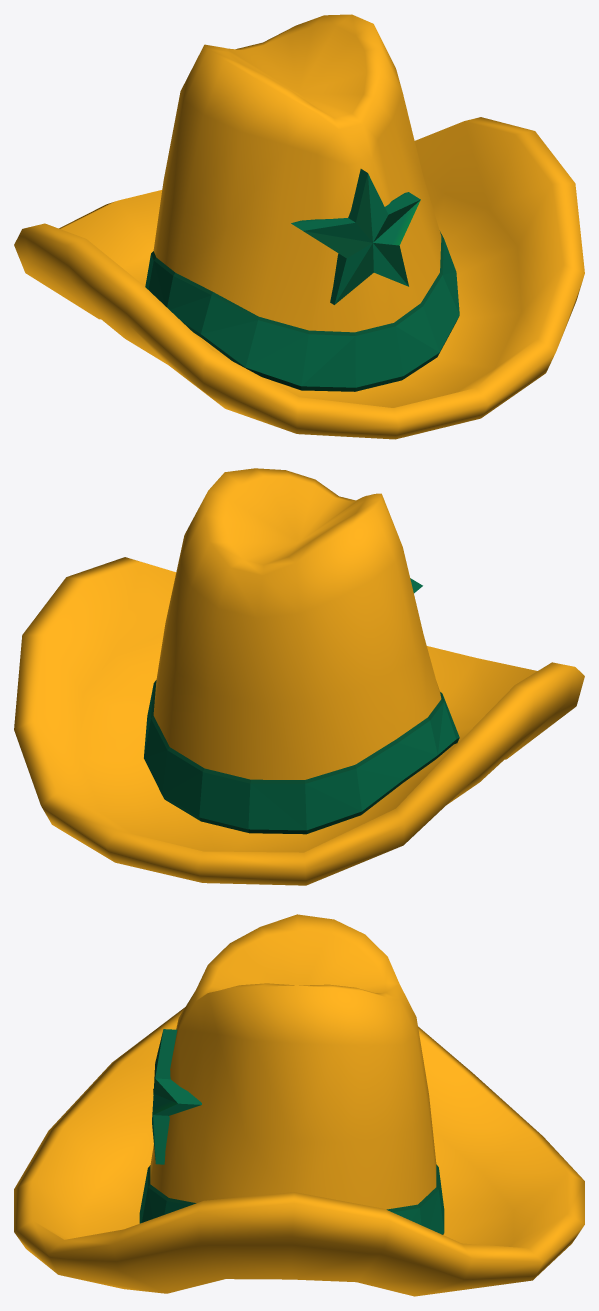
Rendered from F_Hat_Foam.glb.
3 renders of one model, top to bottom at view 1: azimuth 30°, elevation 25°; view 2: azimuth 150°, elevation 25°; view 3: azimuth 270°, elevation 25°, orthographic. The views are drawn at different scales.
Parts seen in each view (by area): view 1: F_Hat_Foam; view 2: F_Hat_Foam; view 3: F_Hat_Foam.
Part boxes in pixels (<box>): F_Hat_Foam: <box>14,14,584,439</box>; F_Hat_Foam: <box>14,468,584,885</box>; F_Hat_Foam: <box>14,914,584,1296</box>.
Size of what is drawn, in the model's own units: 1.03 by 0.6367 by 1.11.
Materials: 1 (1 with a texture image).
